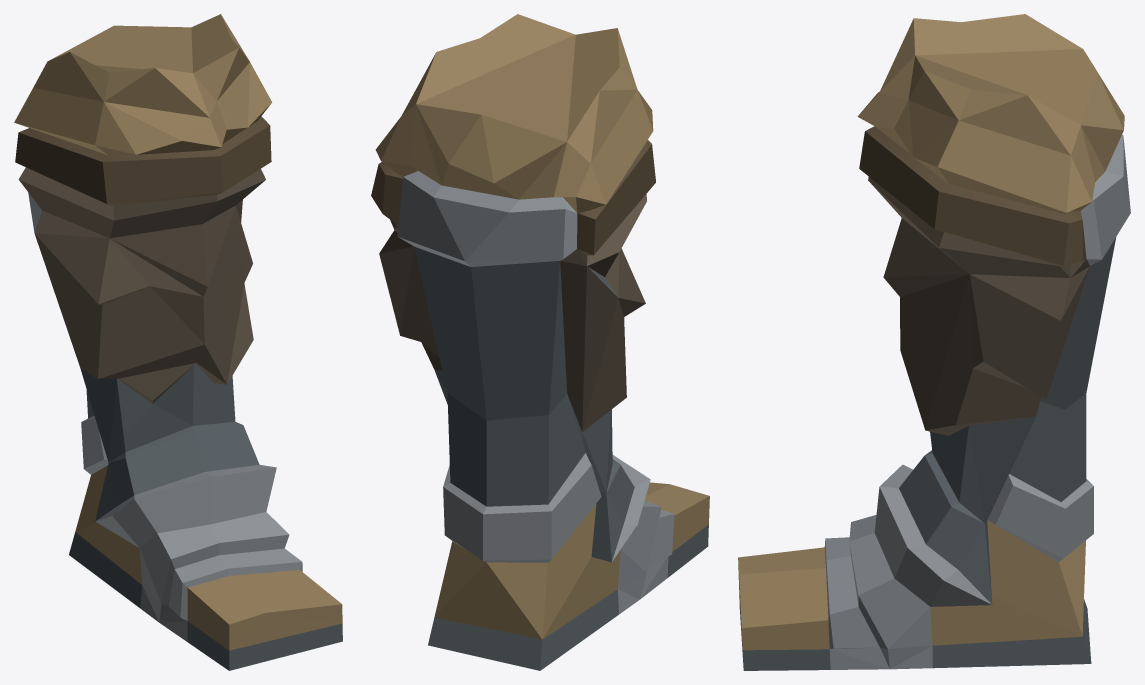
Rendered from Chr_LegRight_Male_05_Static.fbx.
3 views of the same model, side by side, from view 1: azimuth 30°, elevation 25°; view 2: azimuth 150°, elevation 25°; view 3: azimuth 270°, elevation 25° (orthographic). The views are drawn at different scales.
Parts seen in each view (by area): view 1: Chr_LegRight_Male_05_Static; view 2: Chr_LegRight_Male_05_Static; view 3: Chr_LegRight_Male_05_Static.
Boxes of the visible parts, <box> form: Chr_LegRight_Male_05_Static: <box>14,14,342,670</box>; Chr_LegRight_Male_05_Static: <box>371,14,709,670</box>; Chr_LegRight_Male_05_Static: <box>738,14,1130,670</box>.
Bounding box in the file's own units: 0.186 × 0.4165 × 0.2496.
